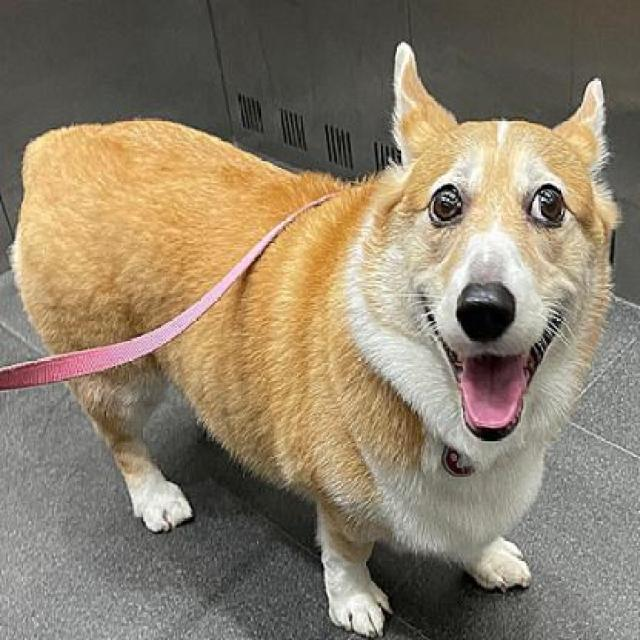Dog: (8, 40, 620, 638)
